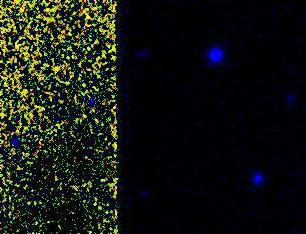star: (40, 55, 70, 85)
